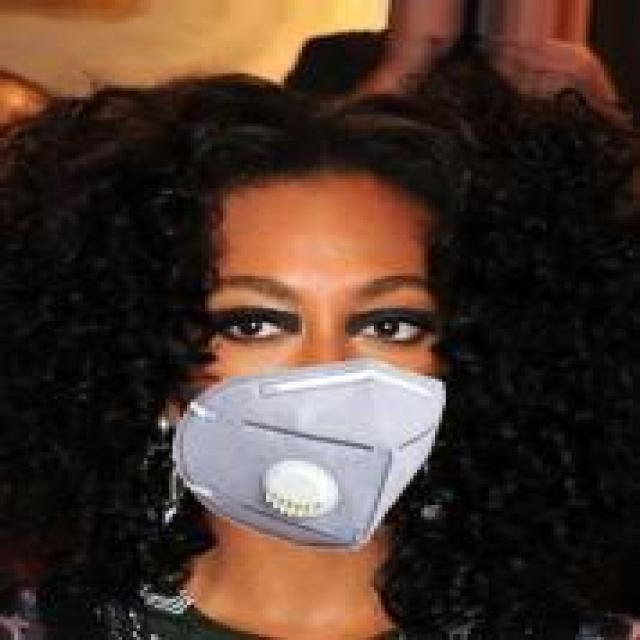mask: (90, 100, 564, 549)
